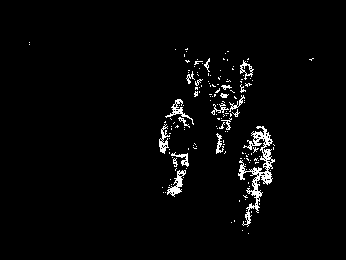person: (159, 97, 197, 201), (241, 124, 274, 231), (212, 80, 239, 156)
